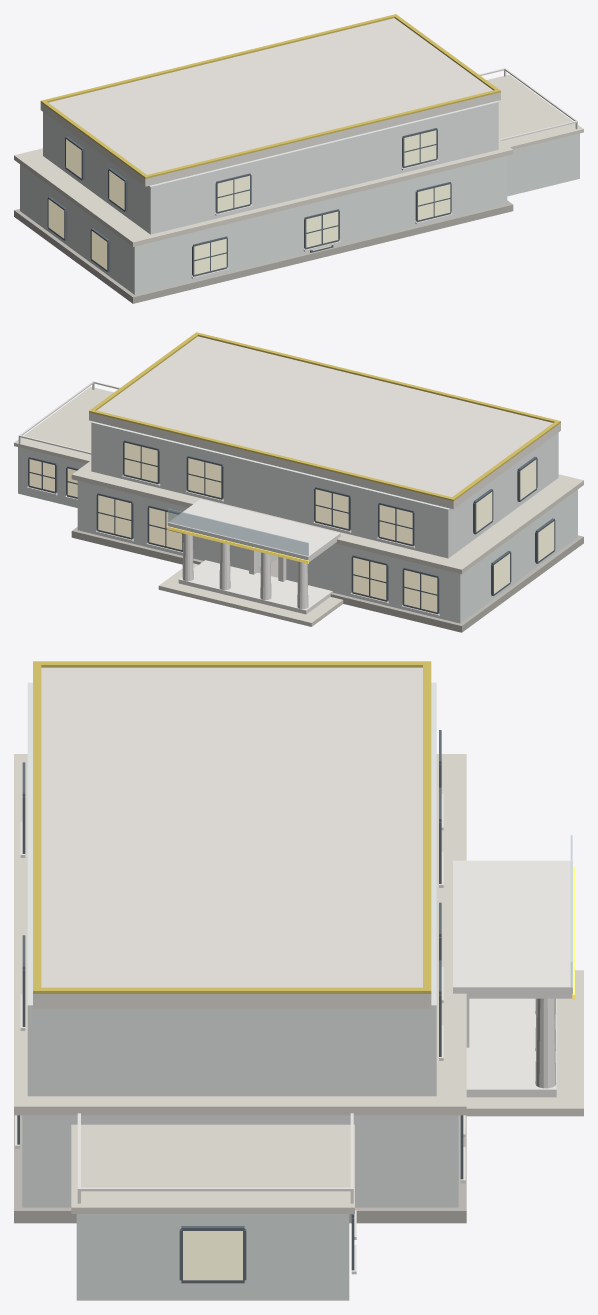
The model's file is banana_mansion.glb.
The picture shows the model from 3 angles, top to bottom: view 1: azimuth 30°, elevation 25°; view 2: azimuth 150°, elevation 25°; view 3: azimuth 270°, elevation 25°; orthographic projection. The views are drawn at different scales.
Parts seen in each view (by area): view 1: banana-mansion-parapet, banana-mansion-render-ground, banana-mansion-render-upper, banana-mansion-band, banana-mansion-glass, banana-mansion-plinth, banana-mansion-gold, banana-mansion-bronze, banana-mansion-wing, banana-mansion-white; view 2: banana-mansion-parapet, banana-mansion-render-upper, banana-mansion-render-ground, banana-mansion-band, banana-mansion-white, banana-mansion-glass, banana-mansion-bronze, banana-mansion-gold, banana-mansion-plinth, banana-mansion-balcony-glass, banana-mansion-wing, banana-mansion-gold-glow; view 3: banana-mansion-parapet, banana-mansion-band, banana-mansion-render-upper, banana-mansion-white, banana-mansion-wing, banana-mansion-render-ground, banana-mansion-gold, banana-mansion-plinth, banana-mansion-bronze, banana-mansion-glass.
Part boxes in pixels (bbox=[...]): banana-mansion-parapet: bbox=[40, 18, 500, 186]; banana-mansion-render-ground: bbox=[20, 156, 507, 294]; banana-mansion-render-upper: bbox=[43, 101, 498, 234]; banana-mansion-band: bbox=[14, 74, 583, 246]; banana-mansion-glass: bbox=[48, 130, 450, 274]; banana-mansion-plinth: bbox=[14, 200, 513, 303]; banana-mansion-gold: bbox=[40, 14, 500, 178]; banana-mansion-bronze: bbox=[47, 128, 451, 276]; banana-mansion-wing: bbox=[507, 133, 579, 196]; banana-mansion-white: bbox=[191, 68, 577, 278]; banana-mansion-parapet: bbox=[89, 336, 560, 509]; banana-mansion-render-upper: bbox=[91, 421, 558, 558]; banana-mansion-render-ground: bbox=[77, 481, 577, 623]; banana-mansion-band: bbox=[14, 386, 583, 626]; banana-mansion-white: bbox=[18, 381, 439, 616]; banana-mansion-glass: bbox=[29, 442, 554, 612]; banana-mansion-bronze: bbox=[28, 440, 555, 614]; banana-mansion-gold: bbox=[89, 332, 560, 501]; banana-mansion-plinth: bbox=[71, 527, 583, 632]; banana-mansion-balcony-glass: bbox=[168, 509, 308, 556]; banana-mansion-wing: bbox=[18, 447, 85, 507]; banana-mansion-gold-glow: bbox=[167, 526, 308, 563]; banana-mansion-parapet: bbox=[33, 667, 431, 1008]; banana-mansion-band: bbox=[14, 754, 583, 1213]; banana-mansion-render-upper: bbox=[27, 682, 436, 1096]; banana-mansion-white: bbox=[15, 794, 572, 1274]; banana-mansion-wing: bbox=[76, 1214, 349, 1300]; banana-mansion-render-ground: bbox=[22, 1115, 458, 1207]; banana-mansion-gold: bbox=[33, 661, 431, 993]; banana-mansion-plinth: bbox=[14, 1115, 466, 1223]; banana-mansion-bronze: bbox=[17, 730, 463, 1283]; banana-mansion-glass: bbox=[183, 1231, 242, 1280].
Bounding box in the file's own units: 37.5 × 9.12 × 20.9.
